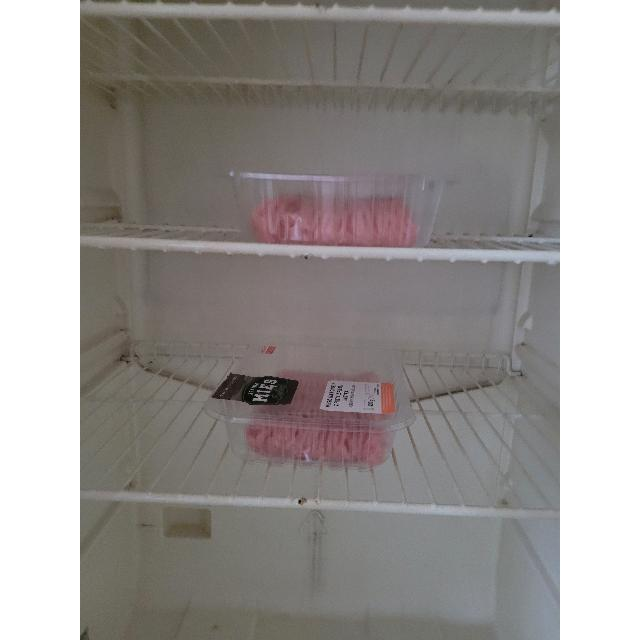meat: (246, 370, 392, 466), (252, 194, 416, 246)
